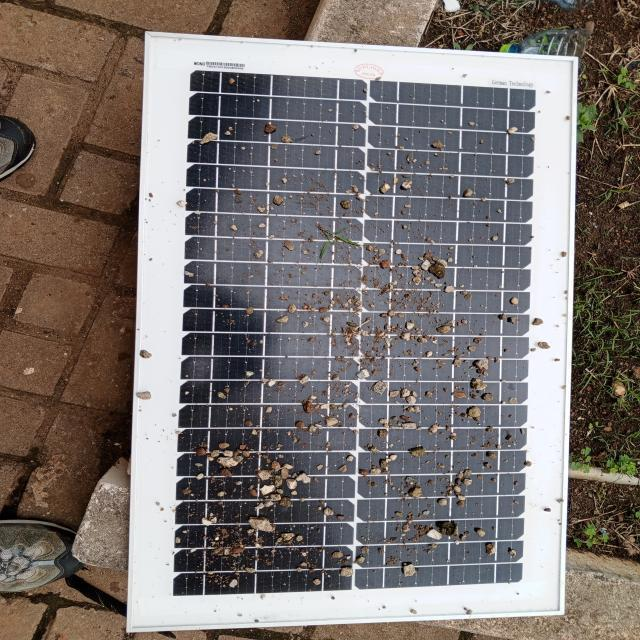Surface Contaminant: (157, 67, 553, 610)
